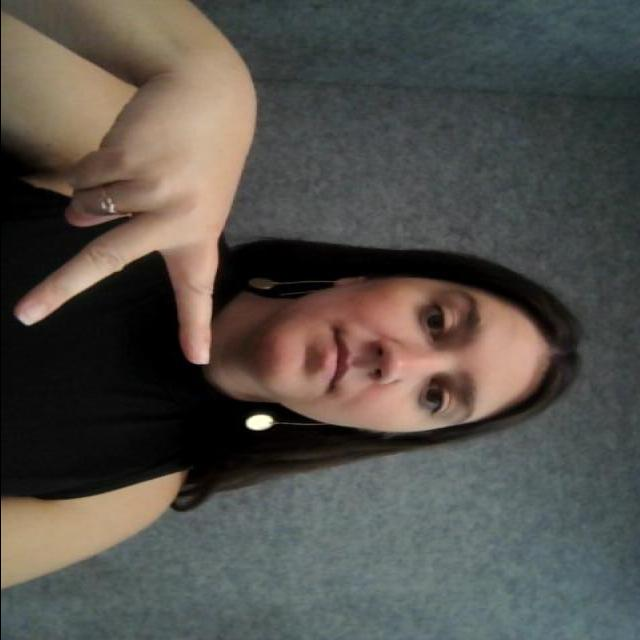Scissors: (29, 70, 259, 378)
